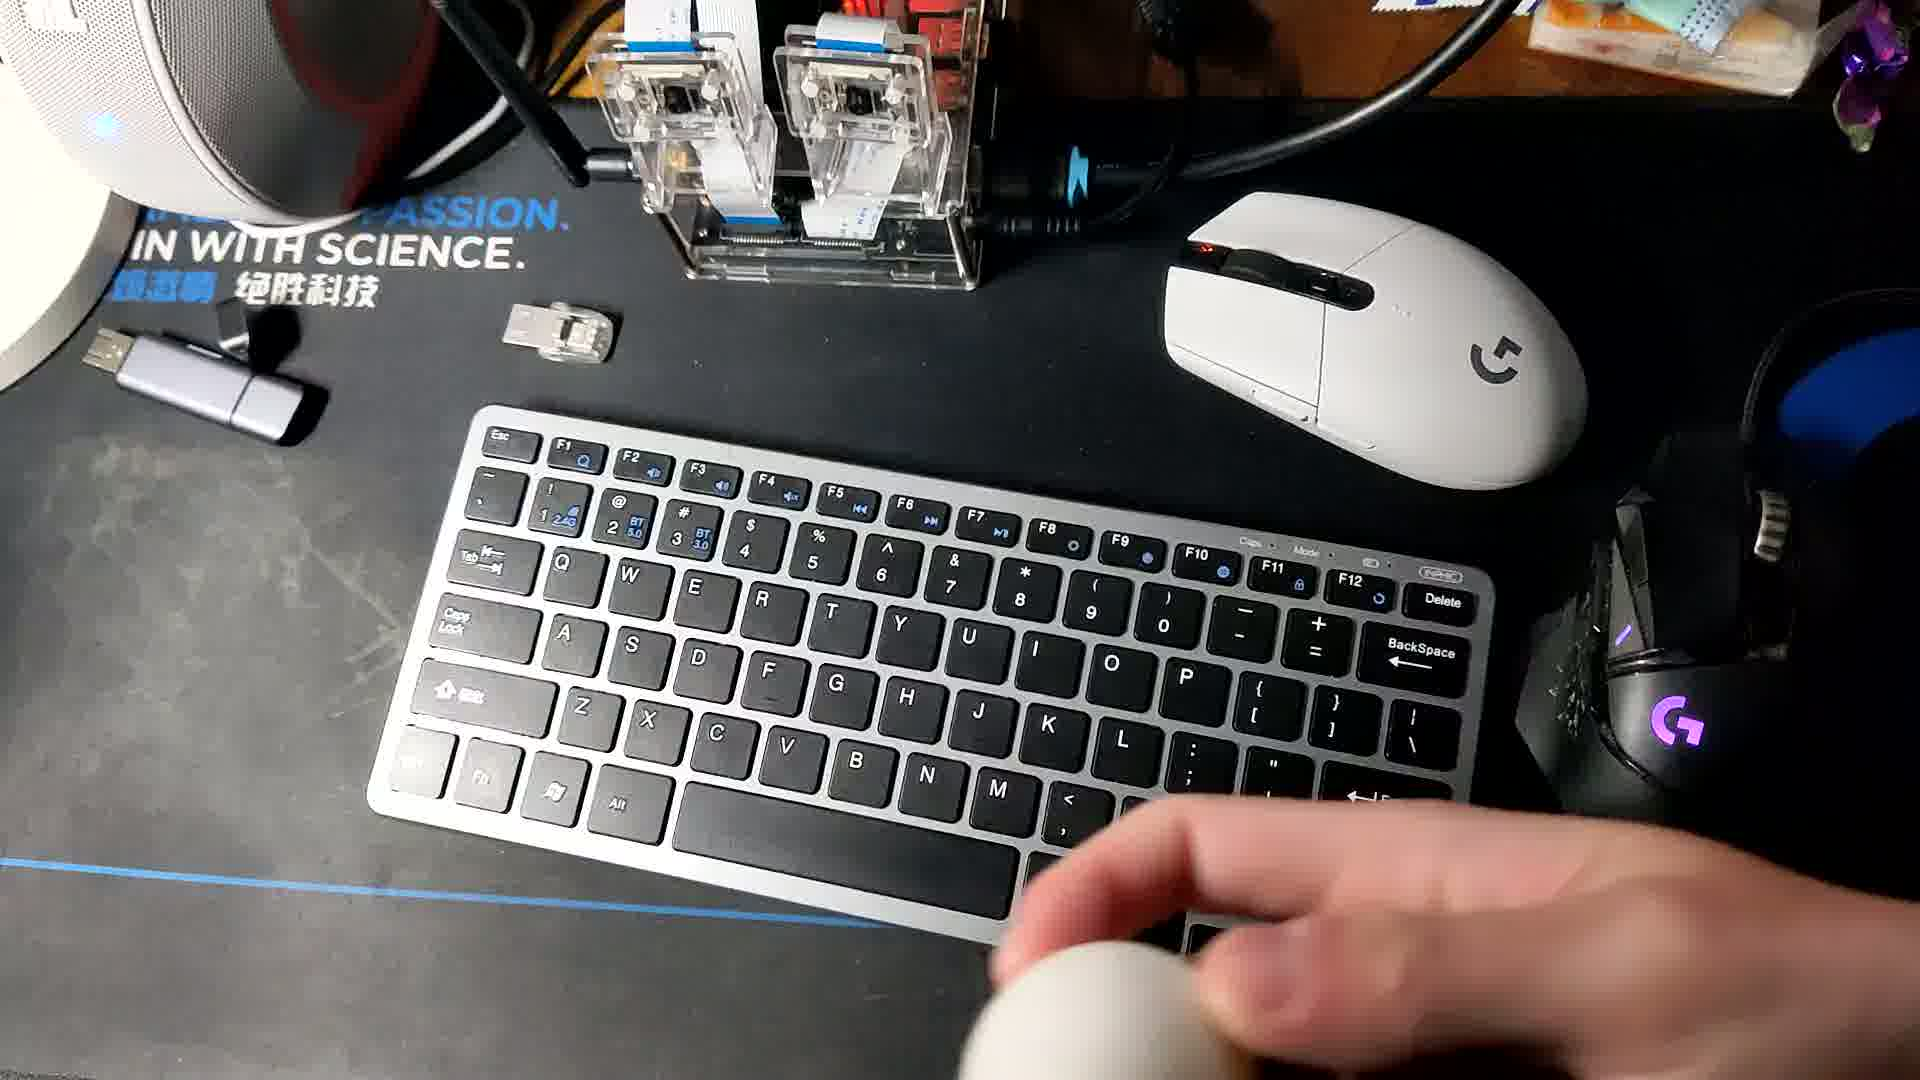Ball: (961, 942, 1251, 1080)
